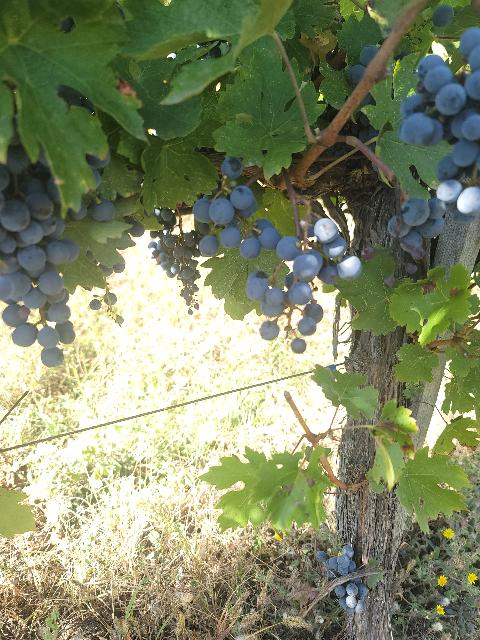grapes: (0, 139, 79, 368), (399, 28, 480, 224), (246, 218, 362, 340), (149, 229, 200, 314)
